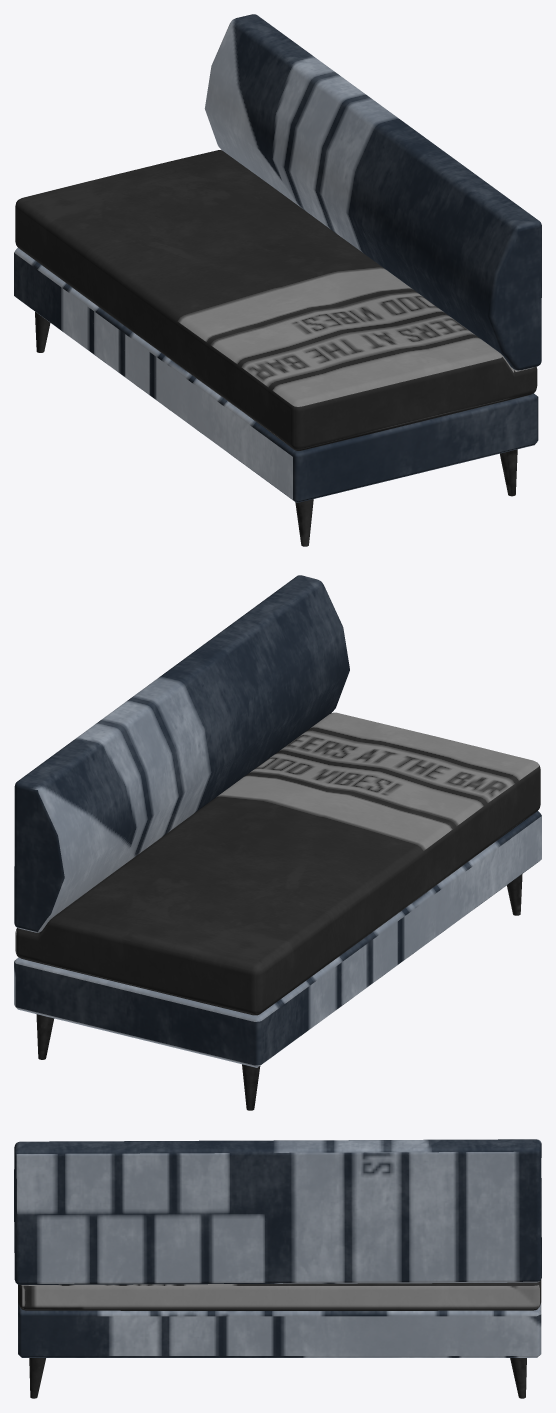
File: SM_BlueFurniture_001.fbx
3 renders of one model, top to bottom at view 1: azimuth 30°, elevation 25°; view 2: azimuth 150°, elevation 25°; view 3: azimuth 270°, elevation 25°, orthographic. The views are drawn at different scales.
Parts seen in each view (by area): view 1: SM_BlueFurniture_001_LOD0; view 2: SM_BlueFurniture_001_LOD0; view 3: SM_BlueFurniture_001_LOD0.
Part boxes in pixels (left/top/right/bottom): SM_BlueFurniture_001_LOD0: left=14, top=14, right=541, bottom=546; SM_BlueFurniture_001_LOD0: left=14, top=575, right=541, bottom=1110; SM_BlueFurniture_001_LOD0: left=14, top=1139, right=541, bottom=1398.
Bounding box in the file's own units: 70.37 × 141 × 75.6.
Materials: 1 (1 with a texture image).
